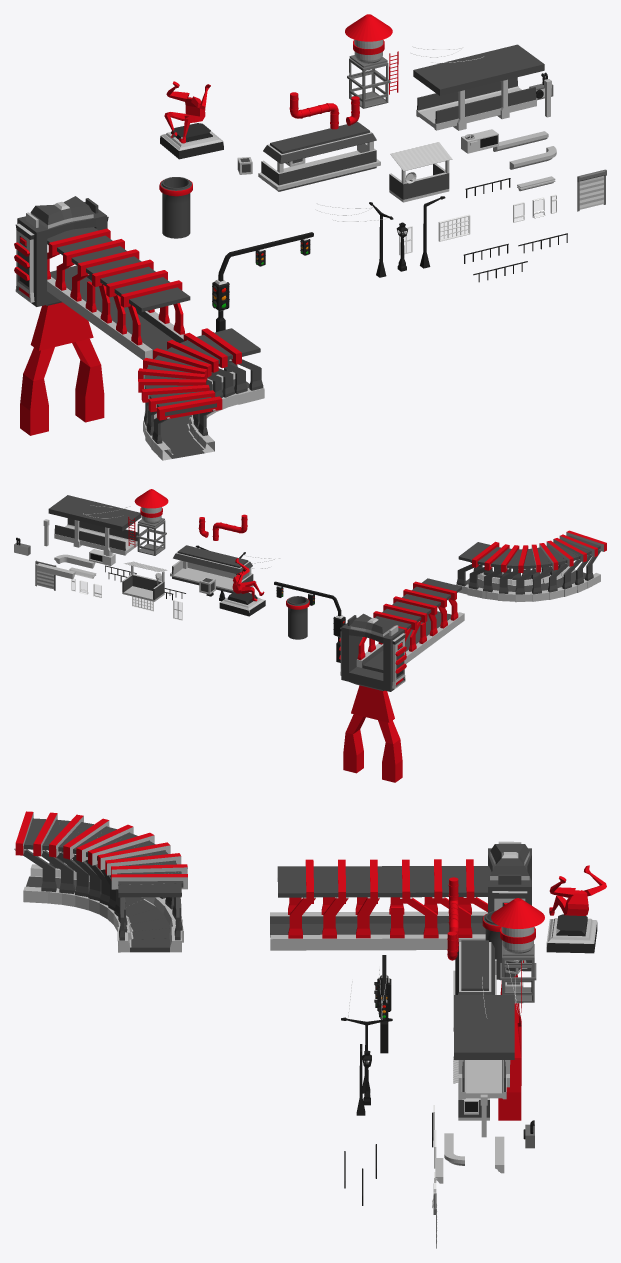
The model's file is SLOPMATERIALS_kleur.fbx.
3 renders of one model, top to bottom at view 1: azimuth 30°, elevation 25°; view 2: azimuth 150°, elevation 25°; view 3: azimuth 270°, elevation 25°, orthographic. The views are drawn at different scales.
Parts seen in each view (by area): view 1: Cube.285, Cube.288, Cube.286, Cube.180, Cube.050, Cube.284, Cylinder.015, Cylinder.014, Cube.012, Cube.063, Plane.009, Cube.143 (+2 smaller); view 2: Cube.288, Cube.286, Cube.285, Cube.180, Cube.050, Cube.284, Cube.012, Cylinder.015, Cylinder.014, Cube.063, Cube.143; view 3: Cube.285, Cube.288, Cube.180, Cube.286, Cube.284, Cube.050, Cylinder.014, Cube.063, Cylinder.015.
Boxes of the visible parts, bbox=[...] form: Cube.285: bbox=[47, 227, 190, 359]; Cube.288: bbox=[138, 328, 264, 460]; Cube.286: bbox=[14, 196, 108, 435]; Cube.180: bbox=[413, 44, 544, 130]; Cube.050: bbox=[258, 121, 380, 191]; Cube.284: bbox=[160, 81, 223, 159]; Cylinder.015: bbox=[159, 177, 192, 238]; Cylinder.014: bbox=[345, 14, 392, 63]; Cube.012: bbox=[389, 160, 449, 202]; Cube.063: bbox=[347, 55, 390, 108]; Plane.009: bbox=[577, 169, 606, 211]; Cube.143: bbox=[216, 232, 313, 331]; Cube.288: bbox=[456, 530, 606, 602]; Cube.286: bbox=[339, 613, 406, 782]; Cube.285: bbox=[356, 578, 464, 672]; Cube.180: bbox=[48, 495, 141, 555]; Cube.050: bbox=[170, 545, 256, 593]; Cube.284: bbox=[219, 558, 265, 616]; Cube.012: bbox=[122, 565, 164, 601]; Cylinder.015: bbox=[286, 596, 309, 639]; Cylinder.014: bbox=[134, 489, 168, 523]; Cube.063: bbox=[136, 518, 166, 555]; Cube.143: bbox=[274, 581, 341, 662]; Cube.285: bbox=[270, 859, 491, 950]; Cube.288: bbox=[14, 811, 187, 952]; Cube.180: bbox=[454, 995, 514, 1099]; Cube.286: bbox=[488, 841, 531, 1120]; Cube.284: bbox=[546, 865, 606, 953]; Cube.050: bbox=[453, 940, 496, 1031]; Cylinder.014: bbox=[491, 898, 544, 953]; Cube.063: bbox=[500, 944, 536, 1002]; Cylinder.015: bbox=[482, 910, 516, 979].
Size of the model in its own units: 5126 by 2567 by 3716.
